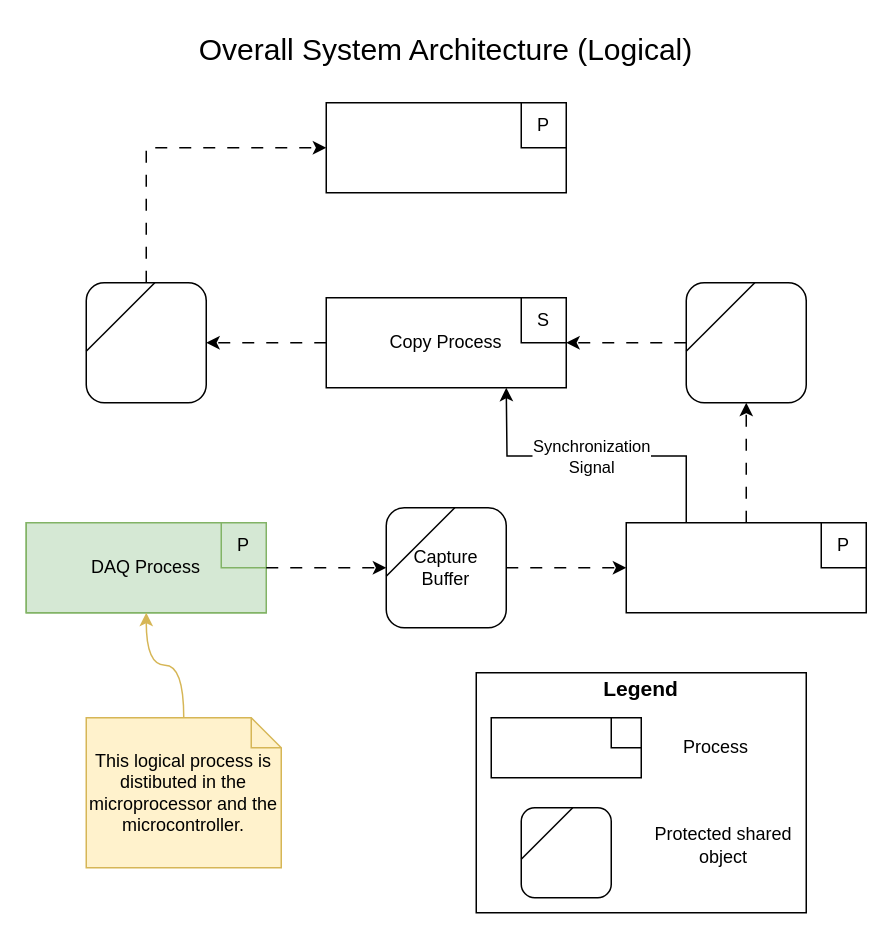
Some shapes in this 893 by 939 pixel diagram are drawn without their labels. The box of each missing label's shape, as (x1, y1, x2, y2) in pixels:
Display Driver: (325, 101, 566, 193)
Frame Buffer: (685, 281, 806, 403)
Frame Buffer (copy): (85, 281, 206, 403)
Renderer: (625, 521, 866, 613)
